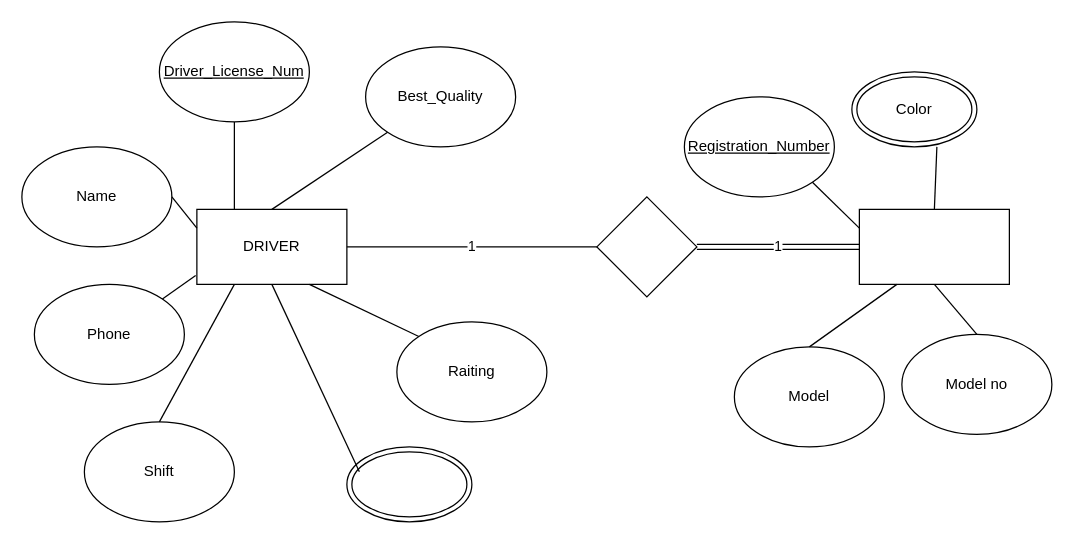
Some shapes in this 1074 by 544 pixel diagram are drawn without their labels. The centre of each missing label's shape, as x and y in pixels:
"Address" goes at point 409,484.
"Car" goes at point 933,246.
"Owns" goes at point 646,246.
